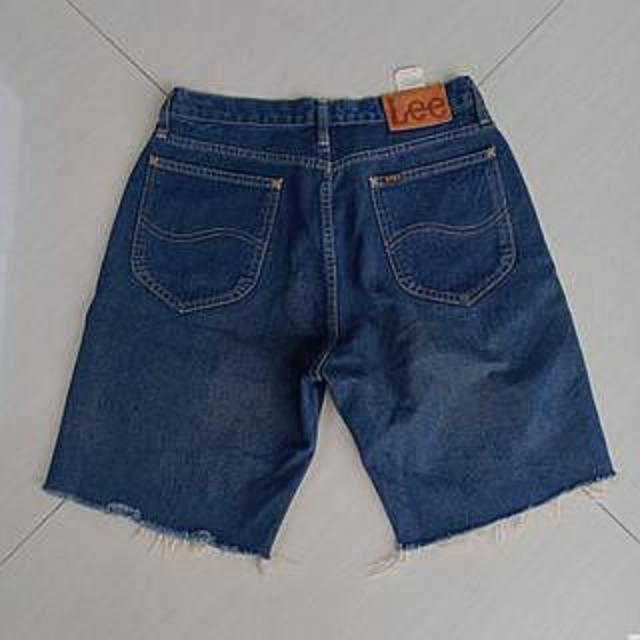SHORT: (23, 71, 640, 583)
